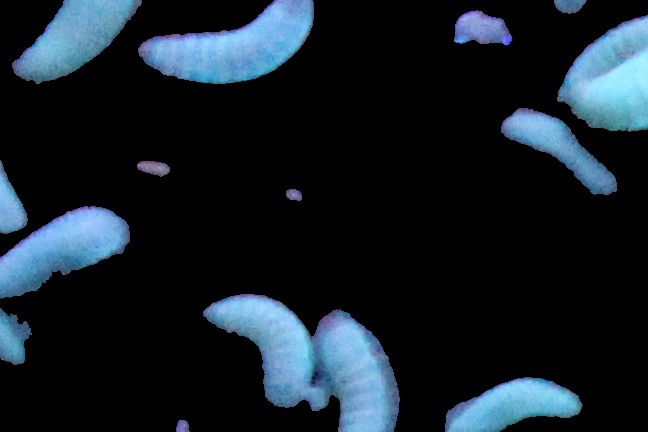larvae: (138, 4, 314, 100), (202, 300, 310, 412), (495, 104, 620, 197), (1, 202, 143, 282), (315, 306, 398, 432), (11, 3, 139, 83), (436, 373, 592, 430), (555, 7, 648, 99)
